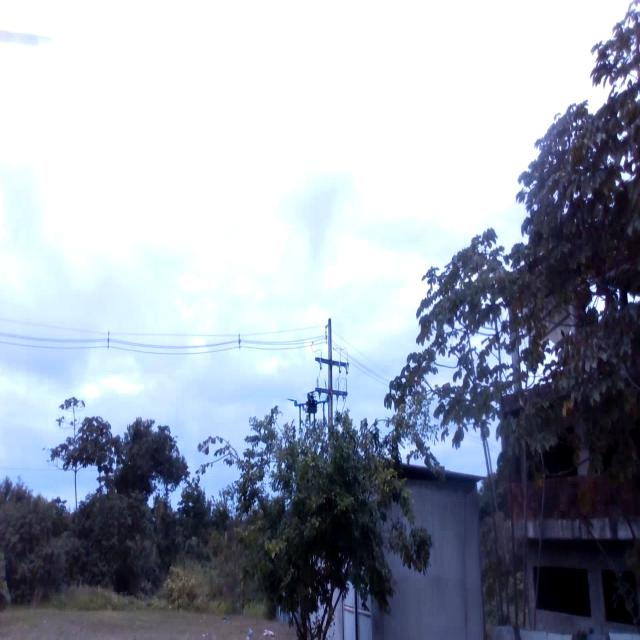-uav-: (290, 385, 333, 440)
